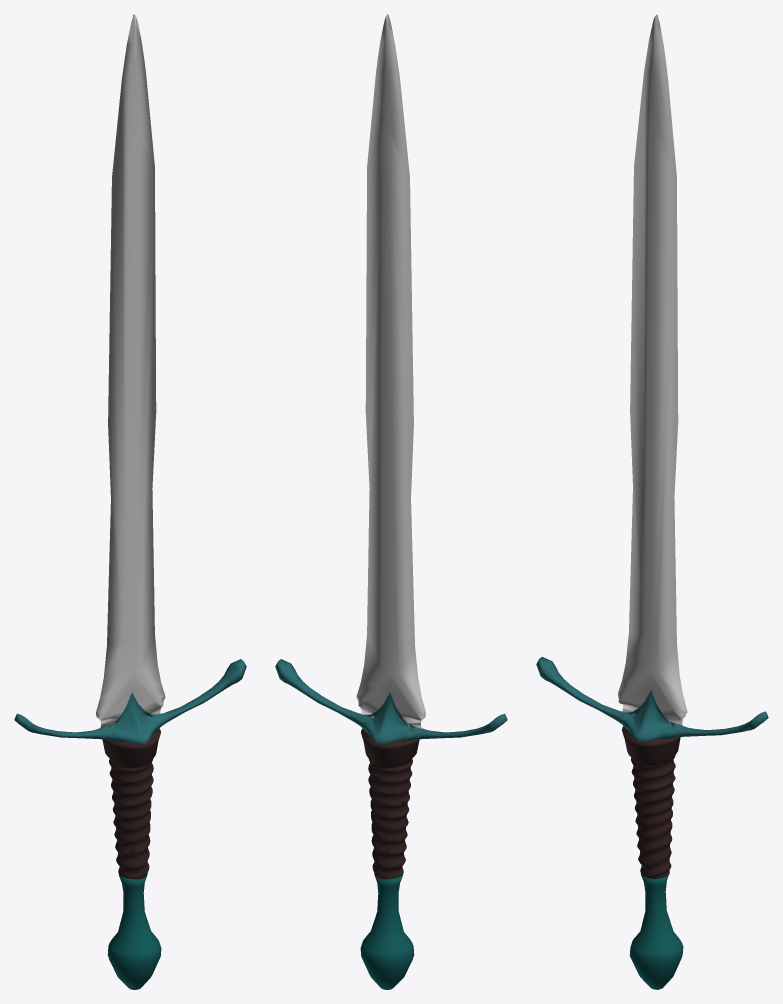
Rendered from Меч.fbx.
The picture shows the model from 3 angles, left to right: view 1: azimuth 30°, elevation 25°; view 2: azimuth 150°, elevation 25°; view 3: azimuth 330°, elevation 25°; orthographic projection.
Visible parts, largest first — view 1: Меч; view 2: Меч; view 3: Меч.
Part boxes in pixels (left/top/right/bottom): Меч: left=14, top=14, right=246, bottom=989; Меч: left=275, top=14, right=507, bottom=989; Меч: left=536, top=14, right=768, bottom=989.
Bounding box in the file's own units: 0.1591 × 0.6468 × 0.0388.
1 material, 1 textured.
